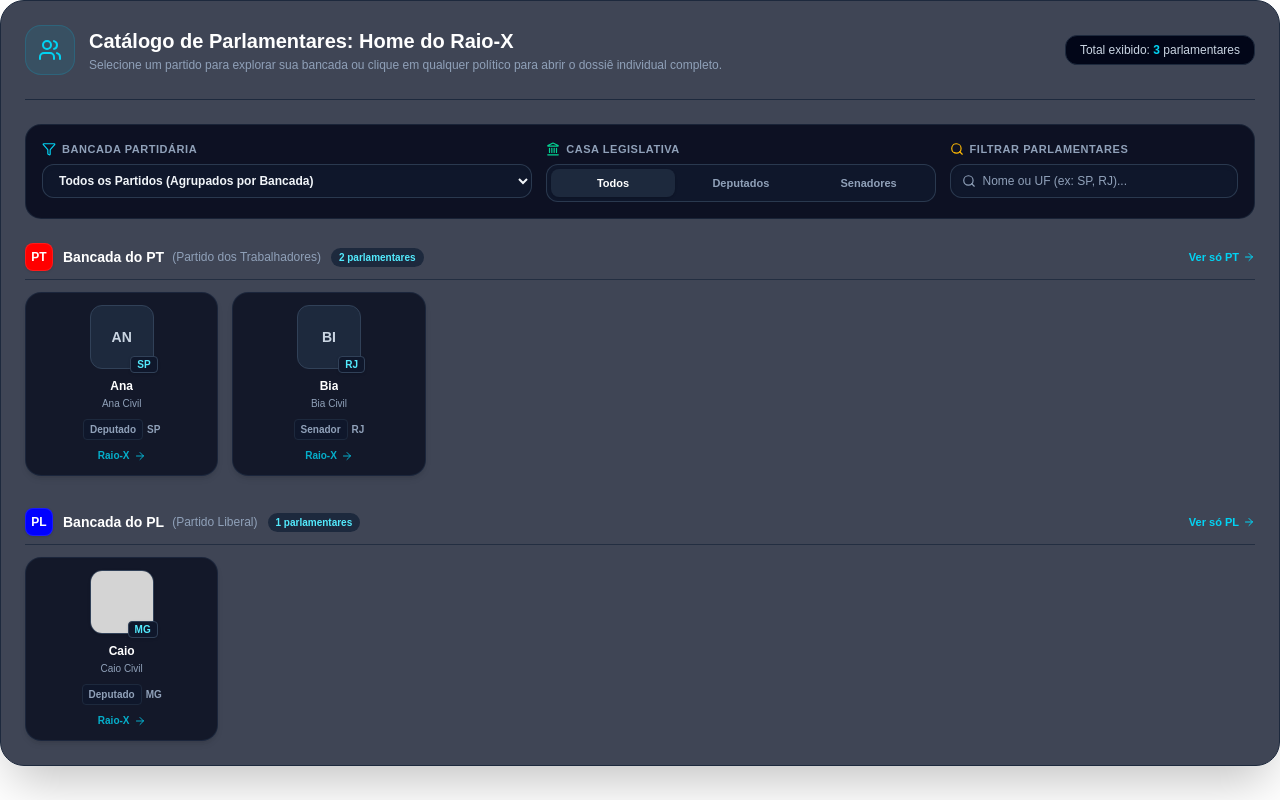
Test case: PoliticianHome › filtro local por nome/UF e "Limpar Filtros" quando nada confere
Expected: the text "Ana" is shown, 110,379 -> 133,394
Type "rj" into the field labelled "Filtrar Parlamentares" at x=1094, y=180, box 950,164 -> 1238,198
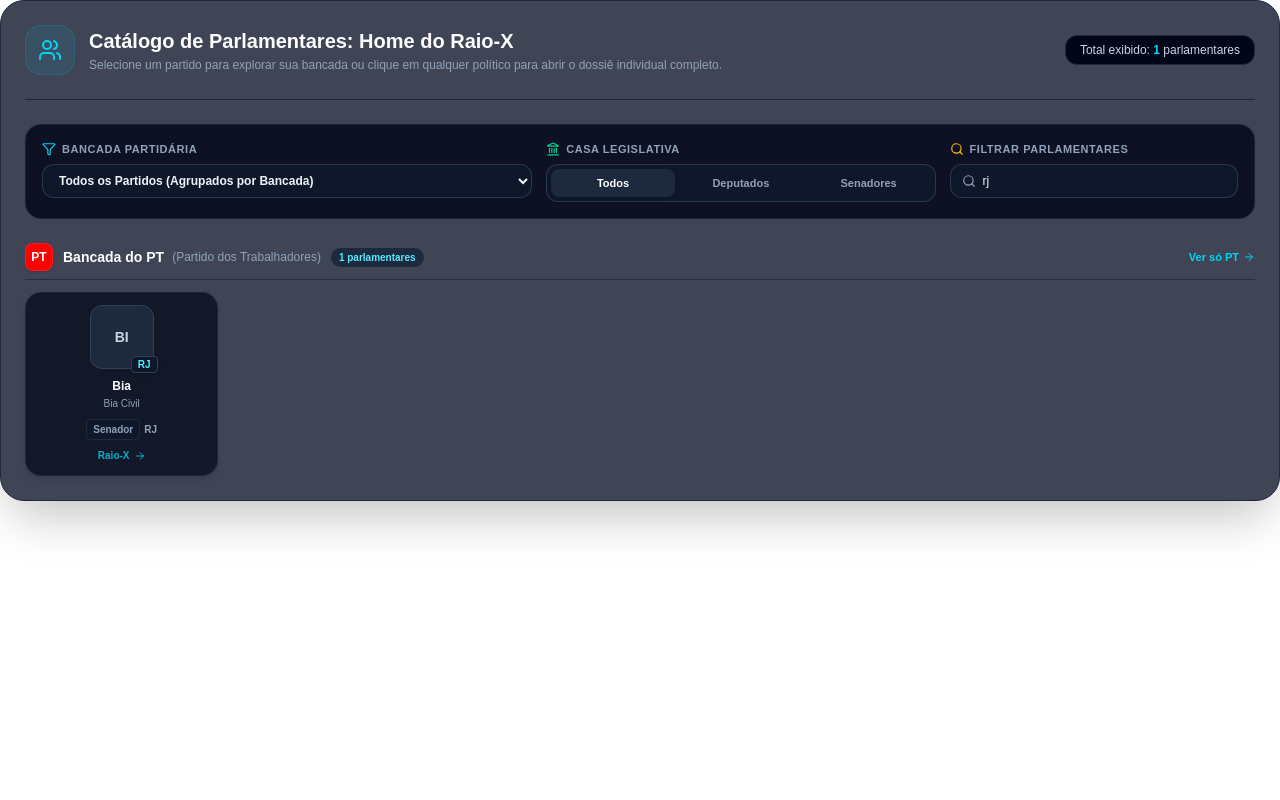
Expected: the text "Bia" is shown, 112,379 -> 131,394
Result: the button "Ana" is gone
Replace the text in the field labelled "Filtrar Parlamentares" with "zzz" at x=1094, y=180, box 950,164 -> 1238,198
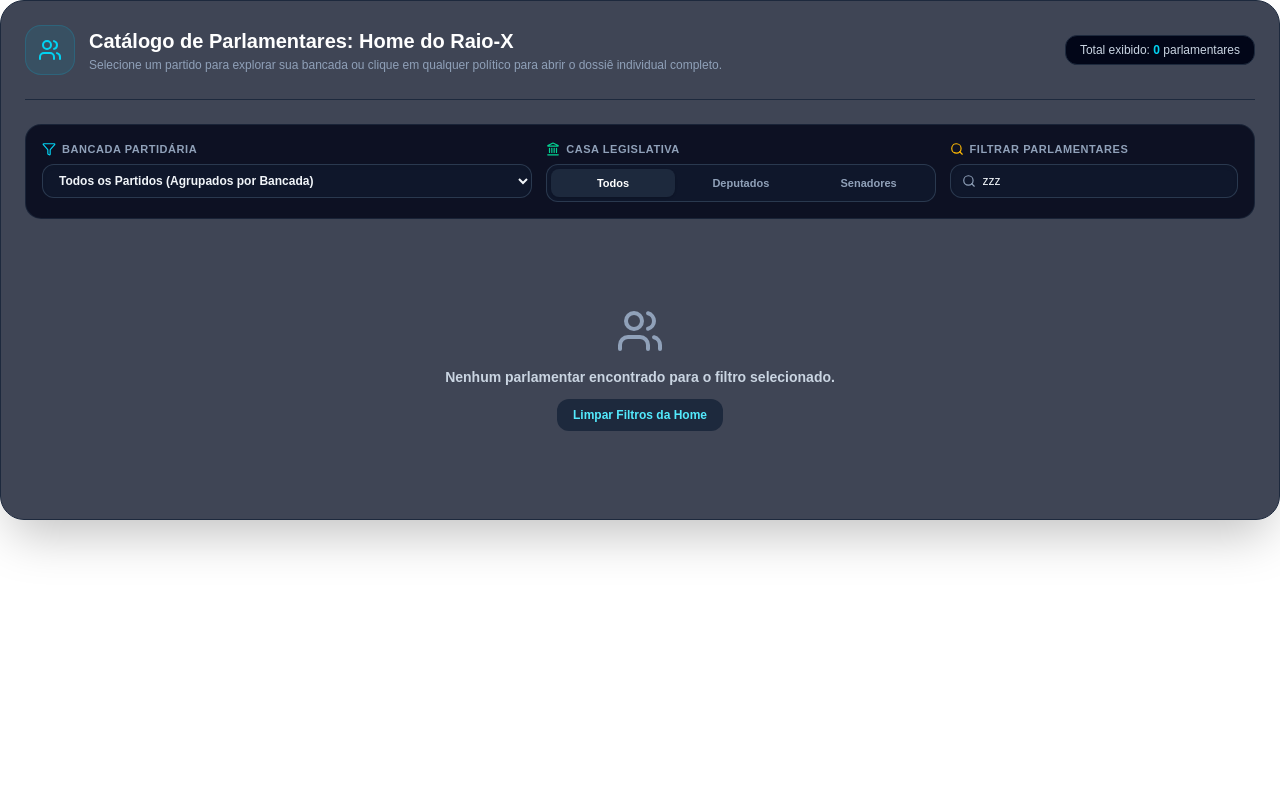
Result: the text "Nenhum parlamentar encontrado para o filtro selecionado." is shown at 445,369 -> 835,385
Click the button "Limpar Filtros da Home" at x=640, y=415, box 557,399 -> 723,431
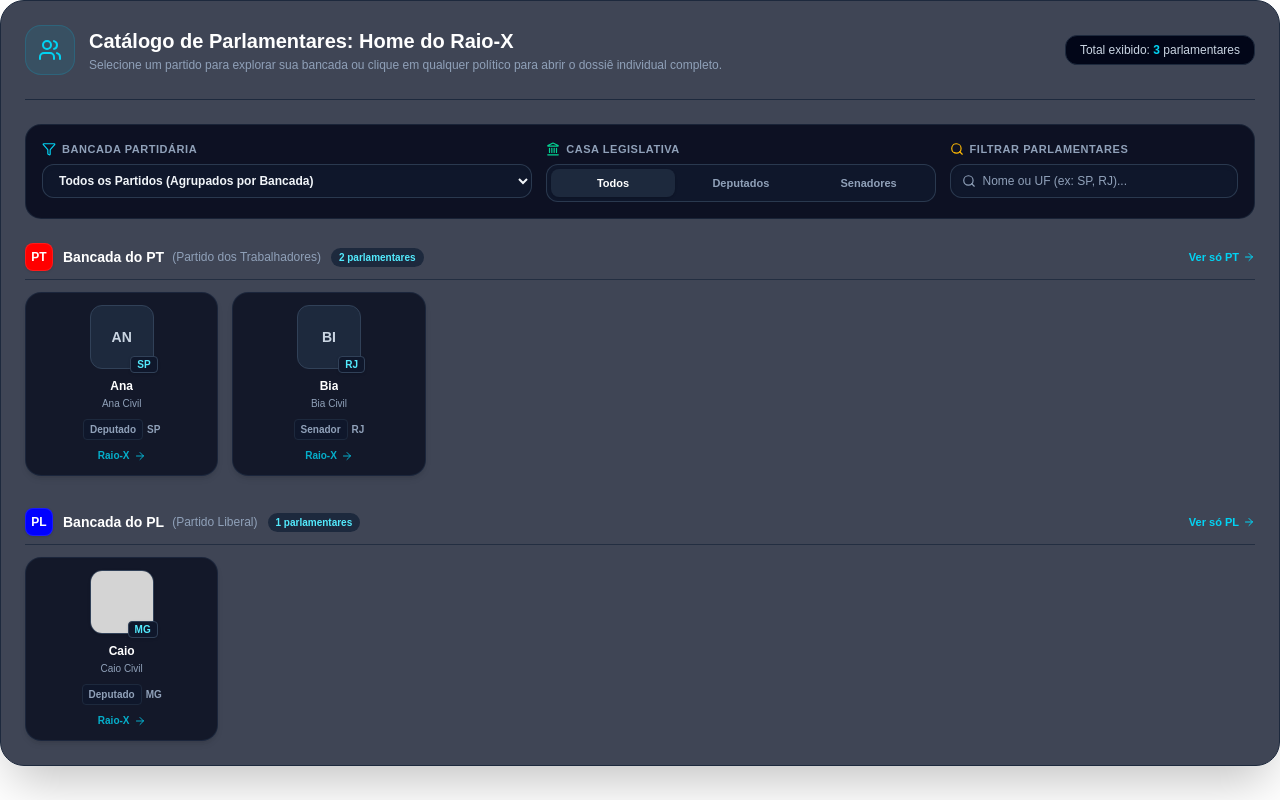
Result: the text "Ana" is shown at 110,379 -> 133,394
